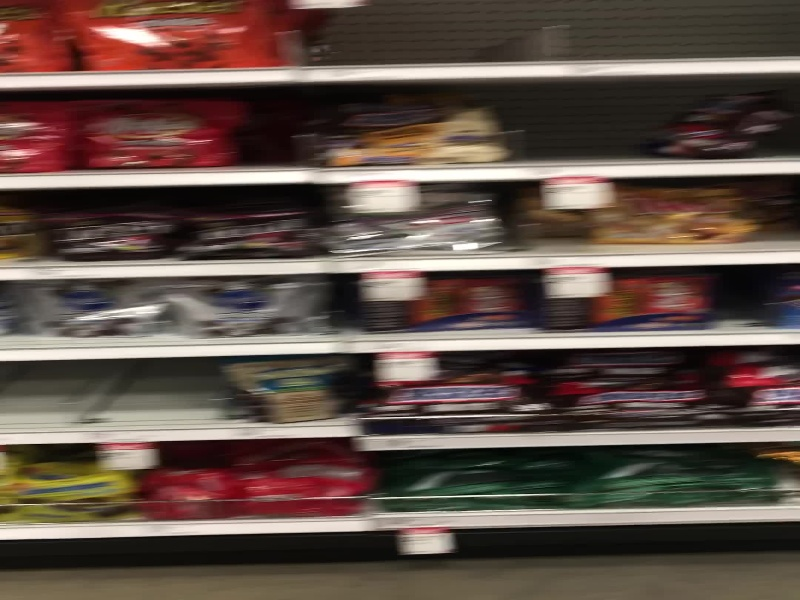void: (294, 1, 799, 72), (1, 351, 222, 428), (515, 72, 650, 168)
